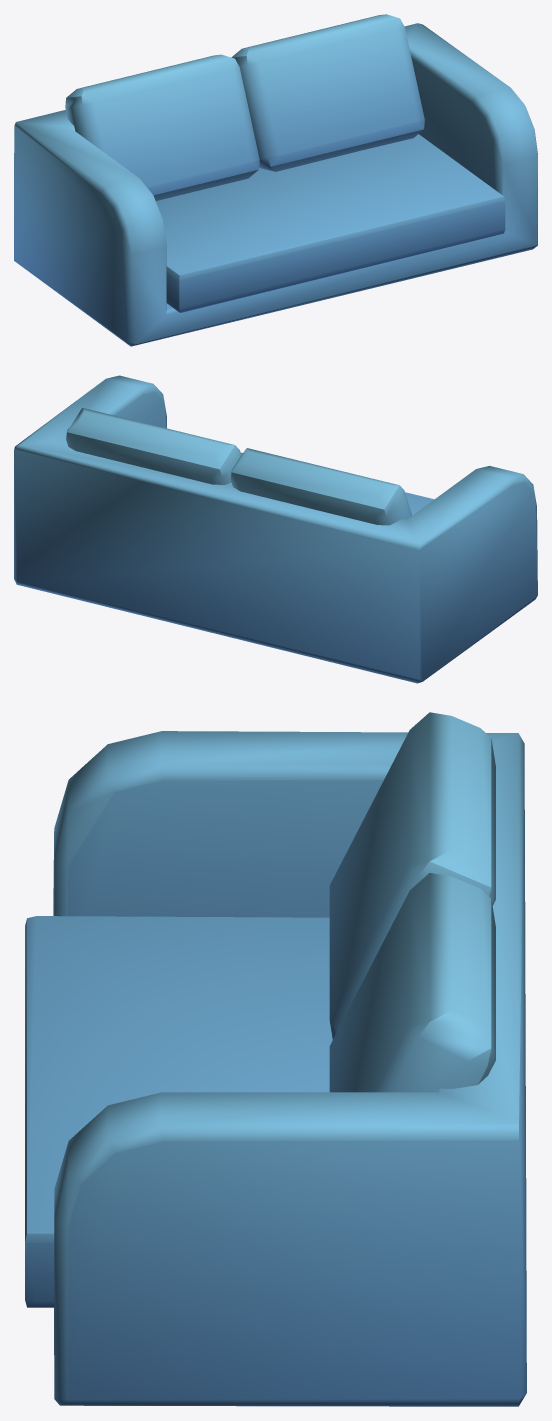
File: couch_Mid.glb
3 renders of one model, top to bottom at view 1: azimuth 30°, elevation 25°; view 2: azimuth 150°, elevation 25°; view 3: azimuth 270°, elevation 25°, orthographic. The views are drawn at different scales.
Parts seen in each view (by area): view 1: couch; view 2: couch; view 3: couch.
Boxes of the visible parts, box(x1,y1,x2,y2) form: couch: box(14, 14, 537, 346); couch: box(14, 375, 537, 683); couch: box(25, 712, 526, 1406).
Size of the model in its own units: 3 by 1.22 by 1.59.
Materials: 1 (1 with a texture image).
